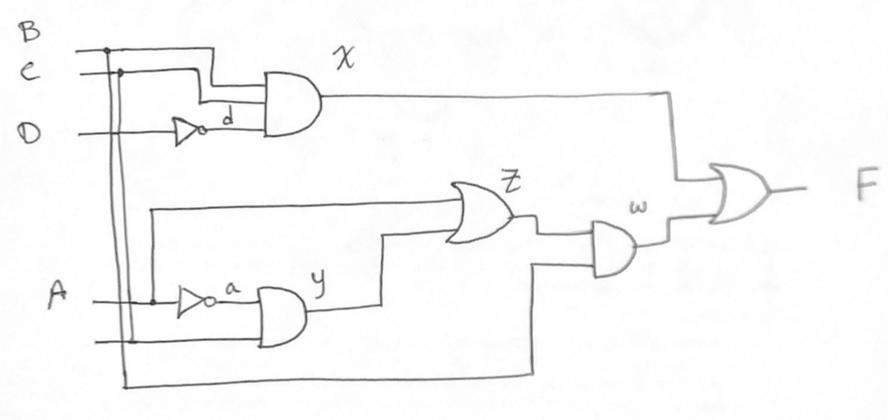AND: (253, 65, 334, 146), (247, 283, 315, 357), (584, 216, 643, 284)
NOT: (167, 277, 219, 320), (166, 108, 212, 152)
OR: (706, 153, 786, 237), (447, 175, 516, 252)
